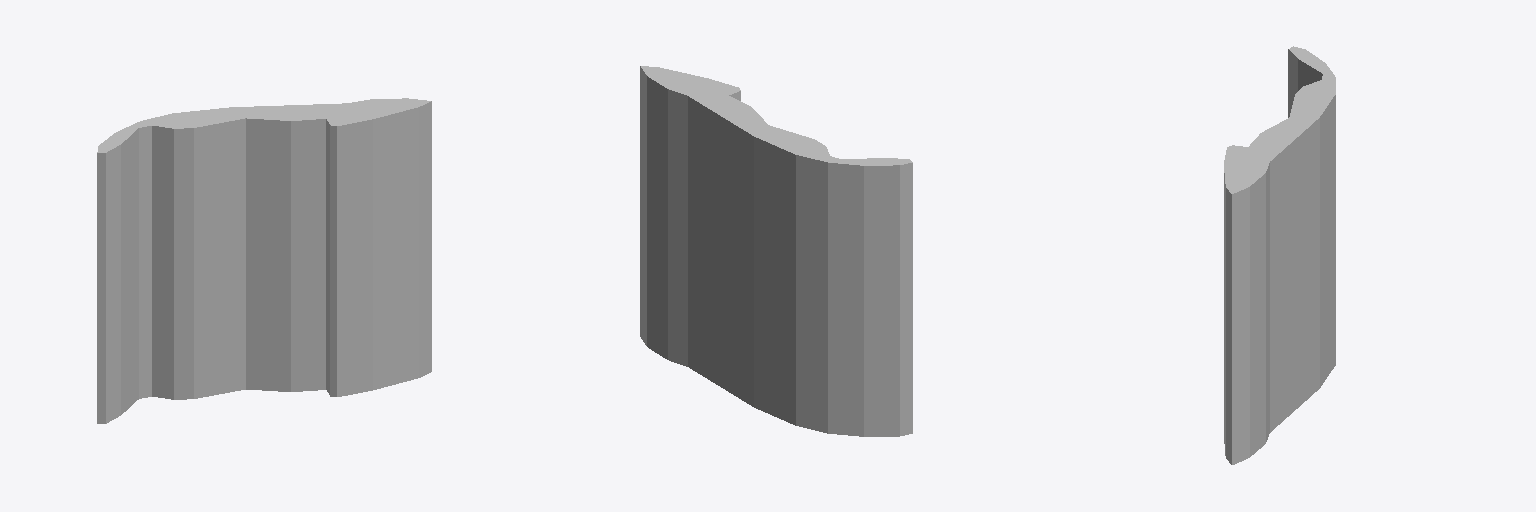
3 renders of one model, left to right at view 1: azimuth 30°, elevation 25°; view 2: azimuth 150°, elevation 25°; view 3: azimuth 270°, elevation 25°, orthographic.
Parts seen in each view (by area): view 1: CU.002_CUCurve.1768; view 2: CU.002_CUCurve.1768; view 3: CU.002_CUCurve.1768.
Boxes of the visible parts, x1,y1,x2,y2 form: CU.002_CUCurve.1768: [97, 98, 431, 423]; CU.002_CUCurve.1768: [640, 66, 912, 436]; CU.002_CUCurve.1768: [1224, 46, 1335, 464].
Size of the model in its own units: 0.0586 by 0.05 by 0.0188.